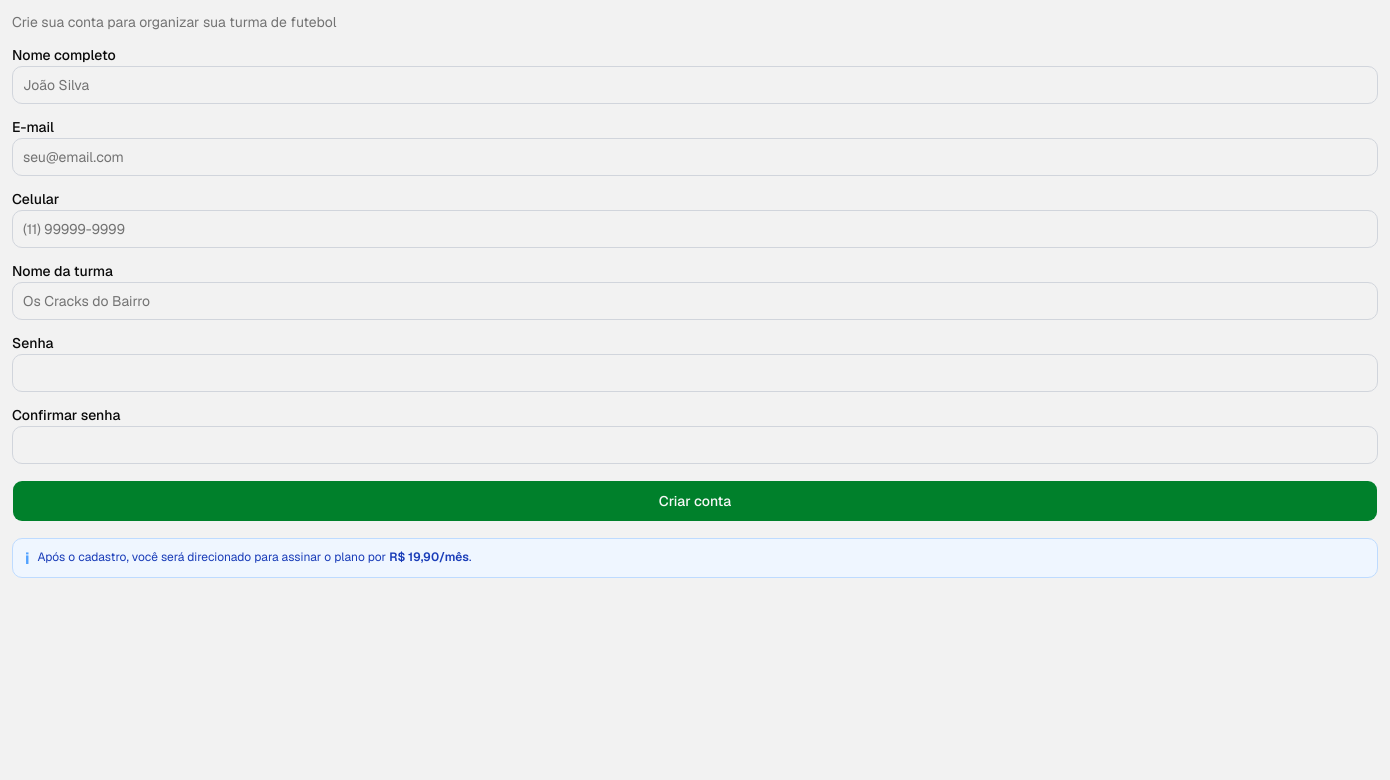
Scenario: CadastroForm › validation › shows error when name is too short
Type "A" into the field labelled "Nome completo" at (695, 85), box x1=12 y1=66 x2=1378 y2=104
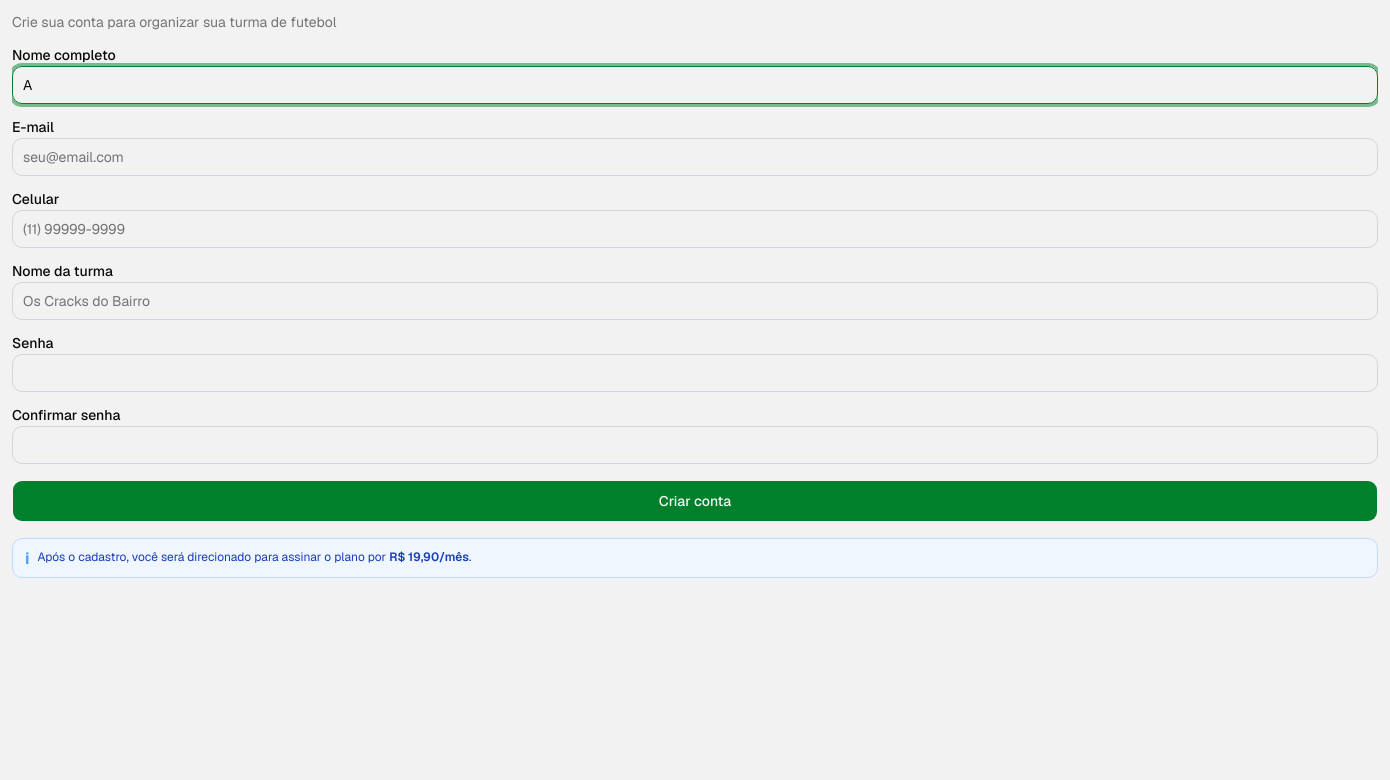
Click the button "Criar conta" at (695, 501), box x1=12 y1=480 x2=1378 y2=522
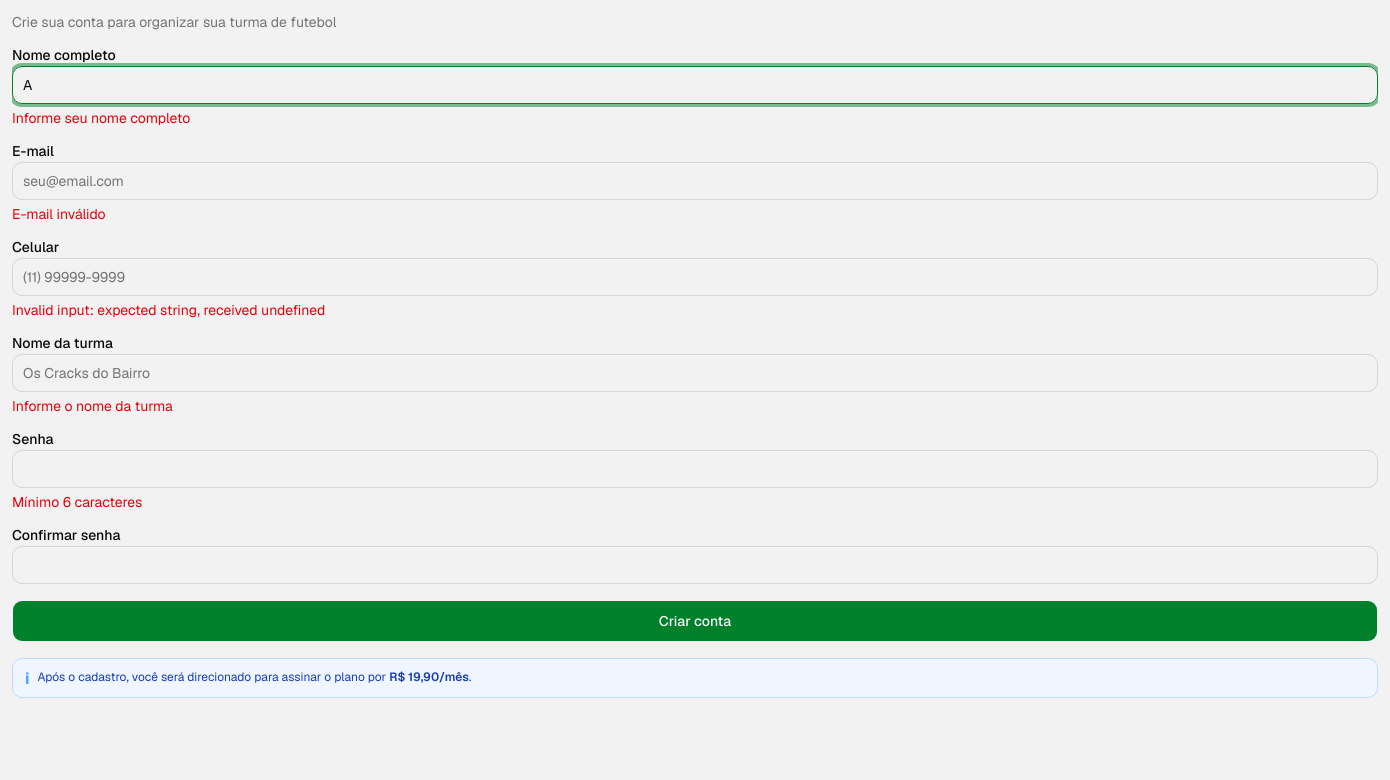
Expected: the text "Informe seu nome completo" is shown, x1=12 y1=109 x2=190 y2=127
